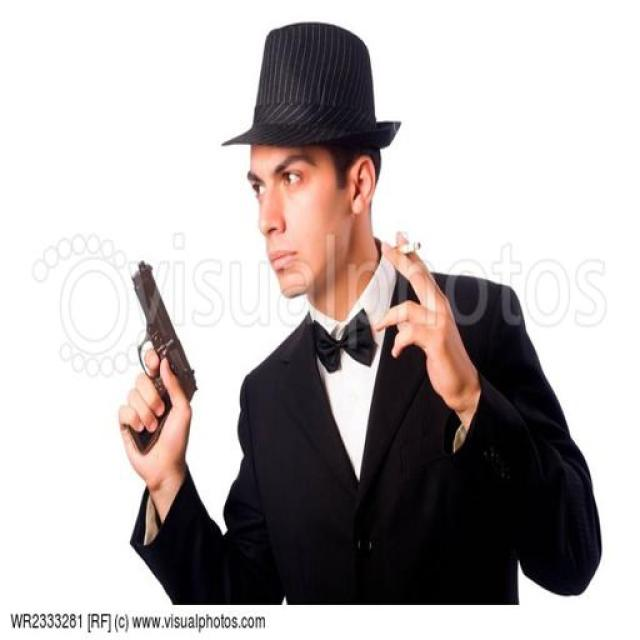pistol: (117, 262, 197, 452)
